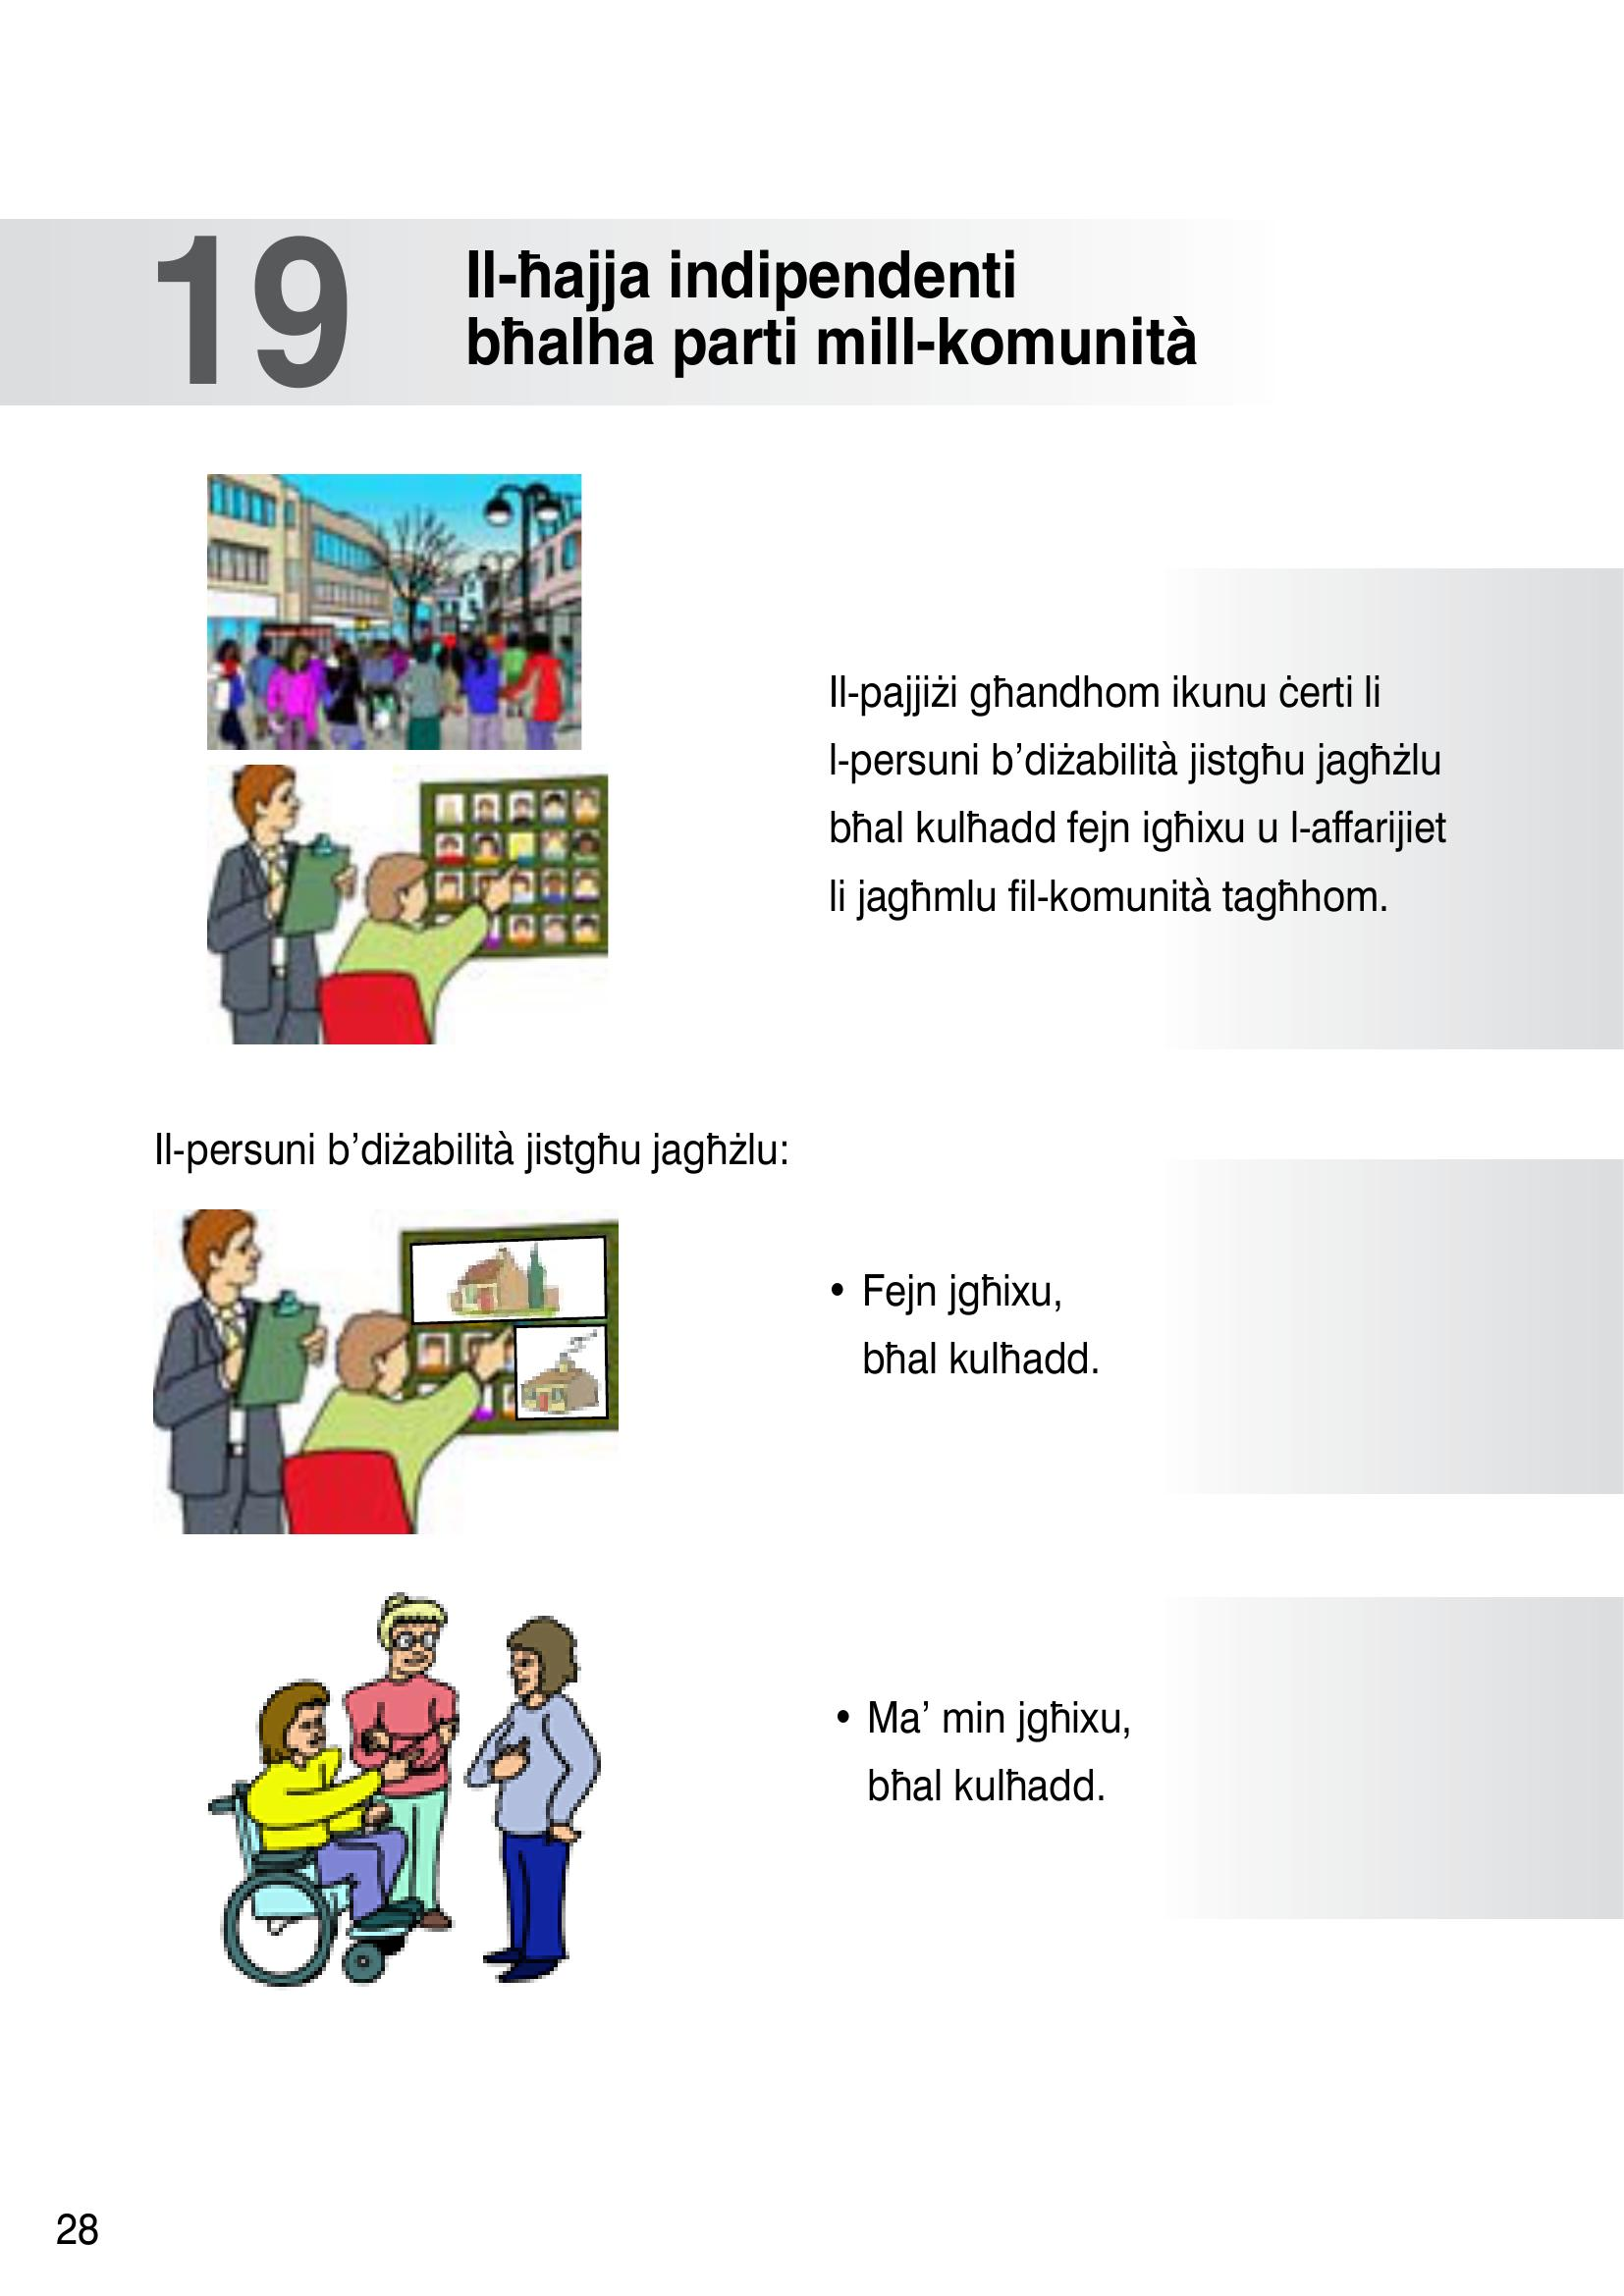text: (796, 1244, 1199, 1862), (782, 618, 1480, 952), (135, 223, 1211, 399), (139, 1108, 803, 1188)
